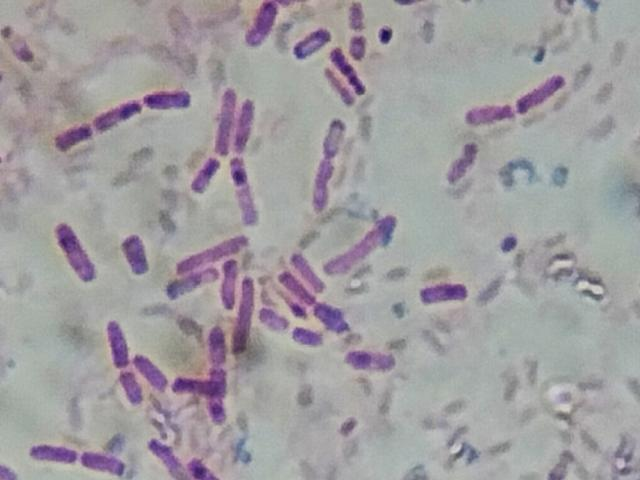E. coli: (328, 213, 406, 279), (313, 119, 348, 216), (227, 152, 263, 228), (54, 225, 100, 283), (175, 234, 254, 264), (513, 70, 569, 111), (94, 94, 145, 131), (446, 136, 479, 189), (289, 251, 326, 298), (144, 81, 196, 114), (417, 274, 472, 305), (248, 0, 282, 49), (334, 48, 368, 96), (148, 433, 184, 477), (238, 279, 259, 353), (319, 66, 351, 113), (82, 445, 129, 477), (55, 115, 94, 152), (214, 82, 235, 149), (166, 270, 218, 297), (349, 346, 397, 373), (122, 232, 150, 278), (32, 436, 76, 464), (346, 5, 371, 54), (104, 321, 130, 368), (469, 97, 511, 126), (235, 94, 255, 154), (218, 258, 240, 311), (117, 365, 144, 407), (193, 154, 220, 195), (134, 351, 164, 386), (207, 364, 226, 418), (279, 270, 310, 303), (297, 27, 326, 61), (317, 297, 346, 325), (207, 319, 227, 359), (188, 450, 214, 480), (260, 307, 289, 332), (174, 377, 214, 394), (295, 328, 324, 351)
